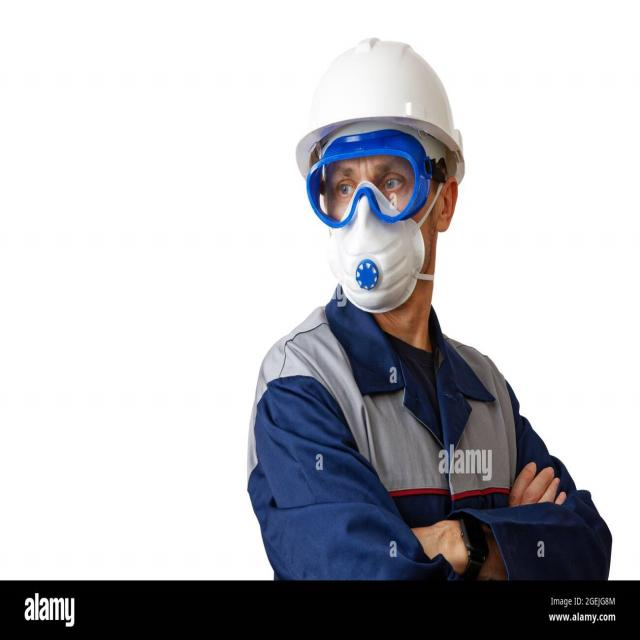Helmet: (266, 29, 490, 162)
Mask: (310, 177, 443, 323)
Protective Glasses: (284, 130, 462, 228)
